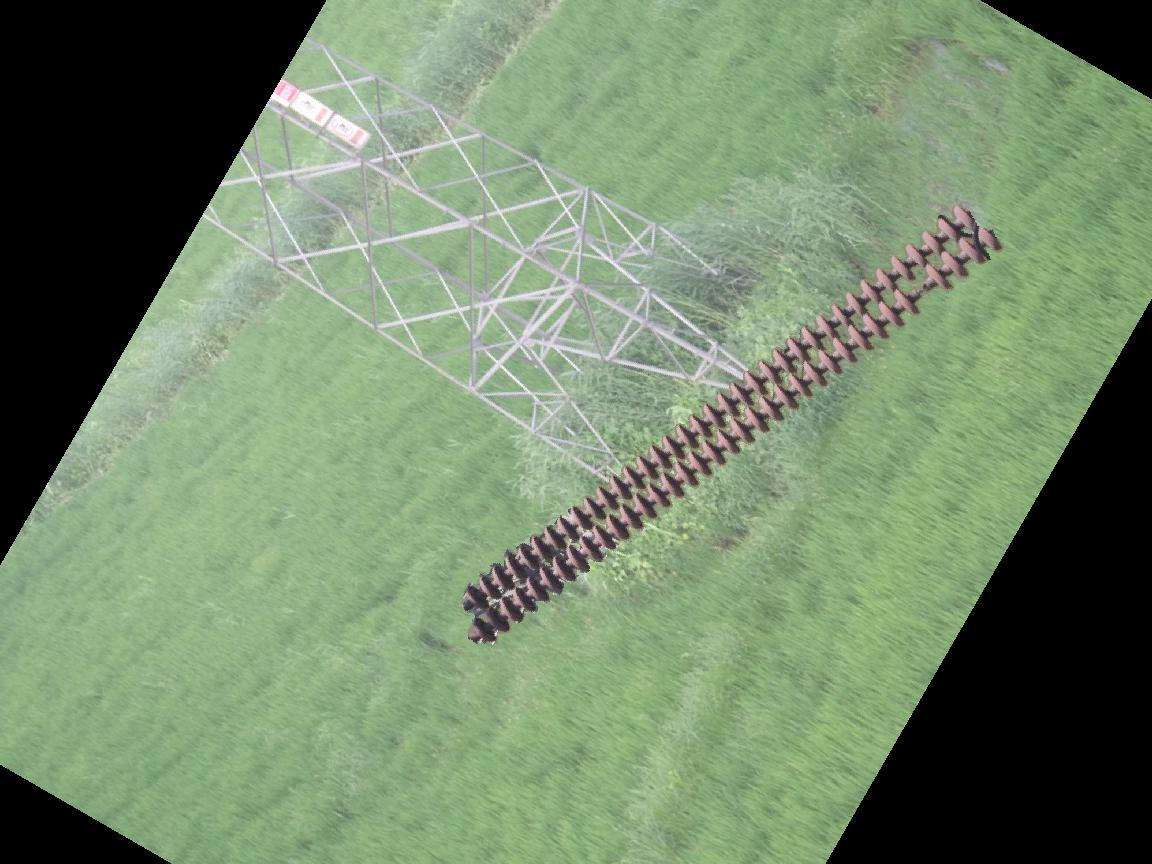insulator: (456, 204, 1002, 647)
insulator_stringdrop: (890, 260, 955, 316)
